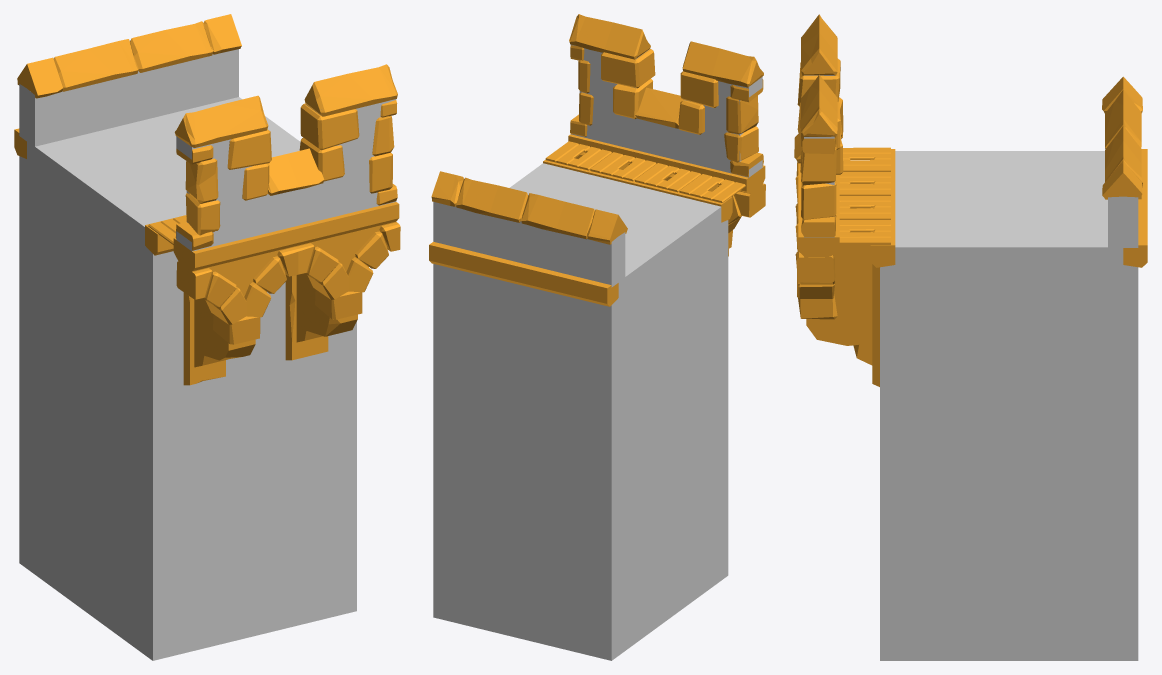
The model's file is SM_Rampart_3x6m_Mach_Backwall_A_Fantasy_Base.fbx.
The picture shows the model from 3 angles, left to right: view 1: azimuth 30°, elevation 25°; view 2: azimuth 150°, elevation 25°; view 3: azimuth 270°, elevation 25°; orthographic projection. The views are drawn at different scales.
Parts seen in each view (by area): view 1: SM_Rampart_3x6m_Mach_Backwall_A_Fantasy_Base; view 2: SM_Rampart_3x6m_Mach_Backwall_A_Fantasy_Base; view 3: SM_Rampart_3x6m_Mach_Backwall_A_Fantasy_Base.
Part boxes in pixels (left/top/right/bottom): SM_Rampart_3x6m_Mach_Backwall_A_Fantasy_Base: left=14, top=14, right=400, bottom=660; SM_Rampart_3x6m_Mach_Backwall_A_Fantasy_Base: left=429, top=14, right=765, bottom=660; SM_Rampart_3x6m_Mach_Backwall_A_Fantasy_Base: left=794, top=14, right=1147, bottom=660.
Size of the model in its own units: 3.03 by 8.01 by 4.65.
